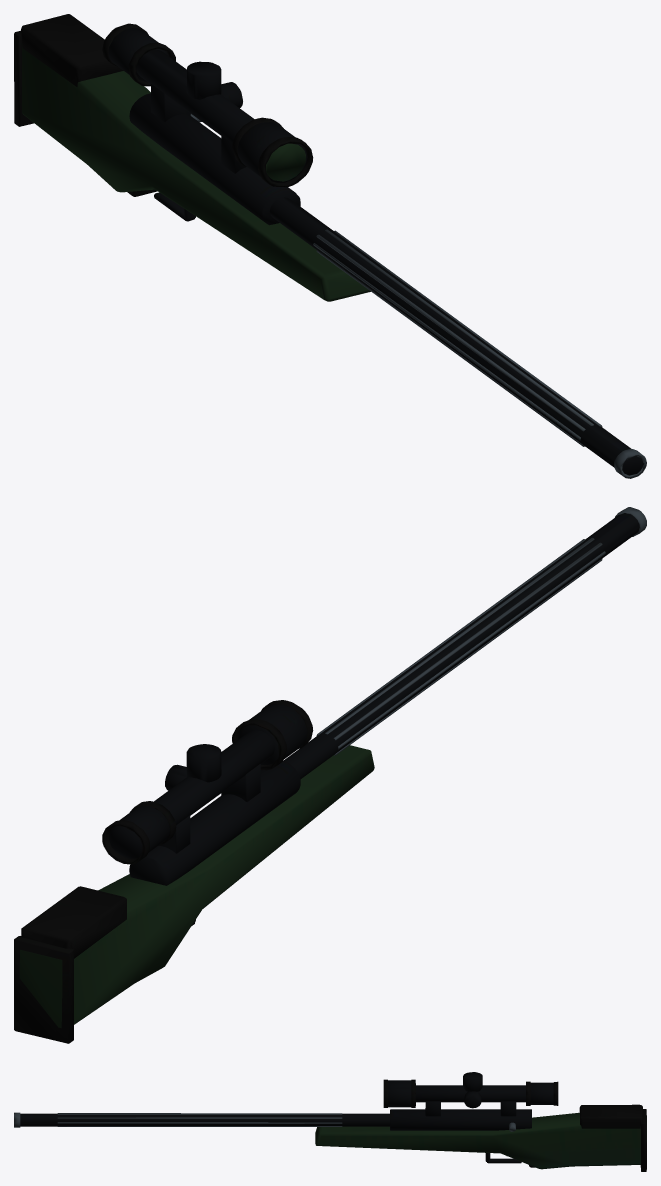
Rendered from weapon_sniper.glb.
The picture shows the model from 3 angles, top to bottom: view 1: azimuth 30°, elevation 25°; view 2: azimuth 150°, elevation 25°; view 3: azimuth 270°, elevation 25°; orthographic projection. The views are drawn at different scales.
Visible parts, largest first — view 1: weapon_sniper; view 2: weapon_sniper; view 3: weapon_sniper.
Boxes of the visible parts, <box> form: weapon_sniper: <box>14,14,646,478</box>; weapon_sniper: <box>14,507,646,1043</box>; weapon_sniper: <box>14,1072,646,1171</box>.
Size of the model in its own units: 0.0994 by 0.2494 by 1.6.
1 material, 1 textured.
